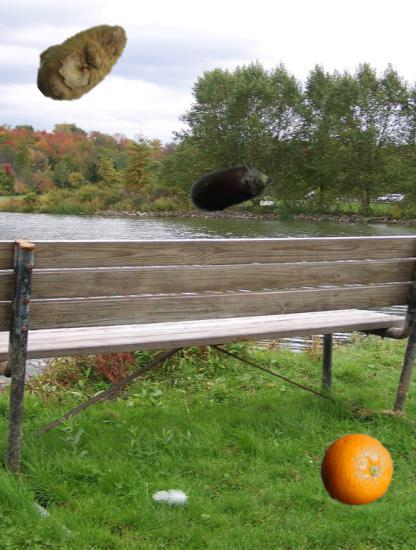Eggplant: (187, 140, 279, 232)
Ginger: (29, 7, 134, 112)
Orange: (319, 433, 393, 507)
